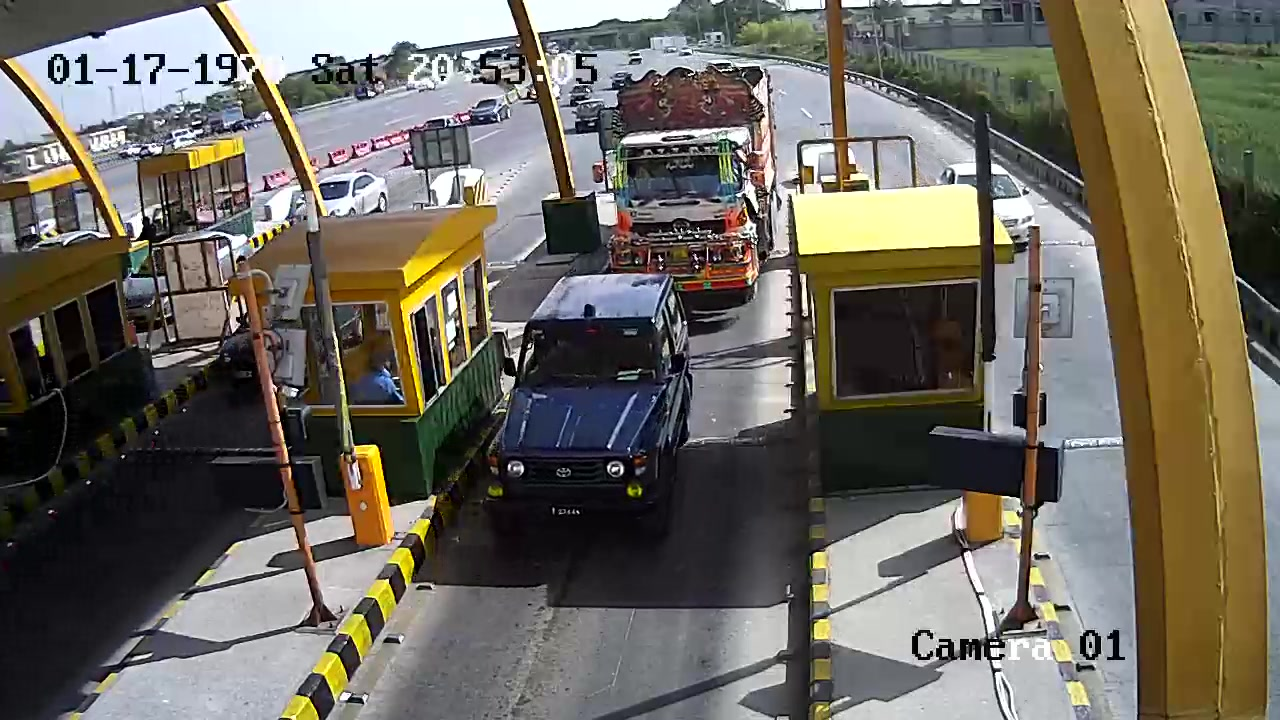F1: (483, 270, 706, 537)
